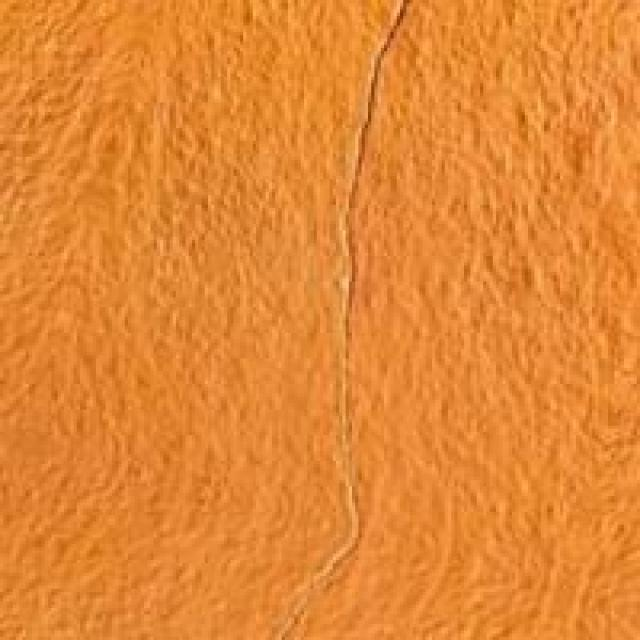crack: (298, 0, 467, 547)
